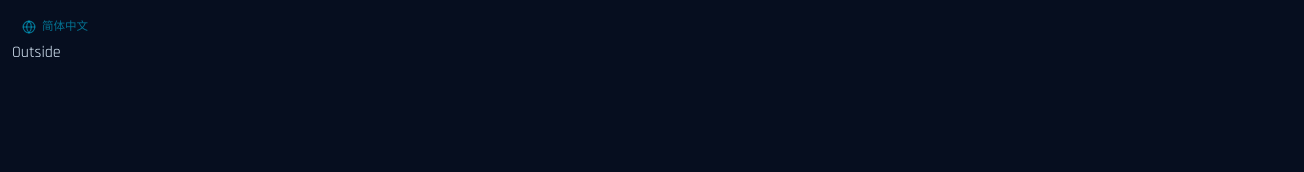
Scenario: LanguageSwitcher › should close dropdown when clicking outside
Click the button with test id "lang-trigger" at (55, 27), box [12,12,98,41]
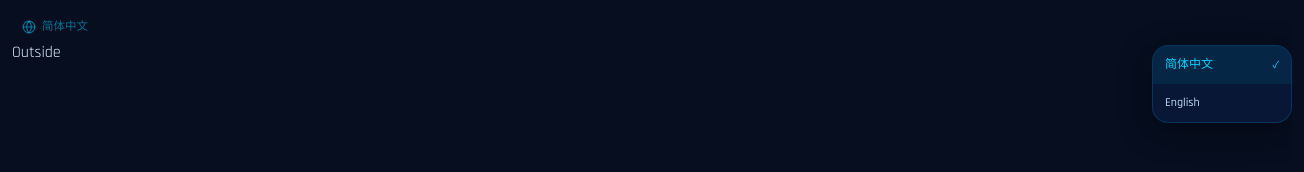
Result: the element with test id "lang-dropdown" is shown at [1152,45,1292,123]
Press the mouse on the text with test id "outside" at (36, 53), box [12,42,61,63]
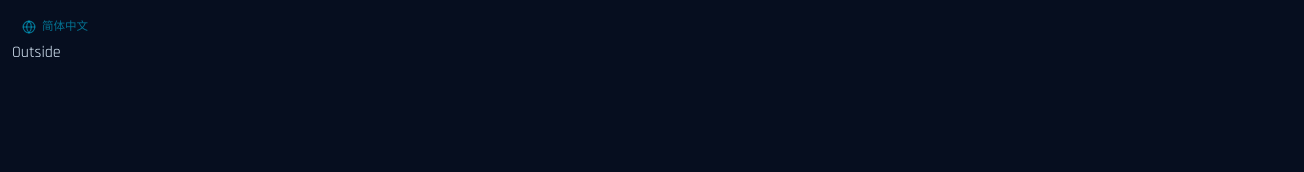
Result: the element with test id "lang-dropdown" is gone
